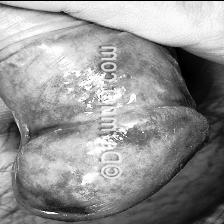Potentially Malignant Skin Tumors: (128, 99, 212, 149)
